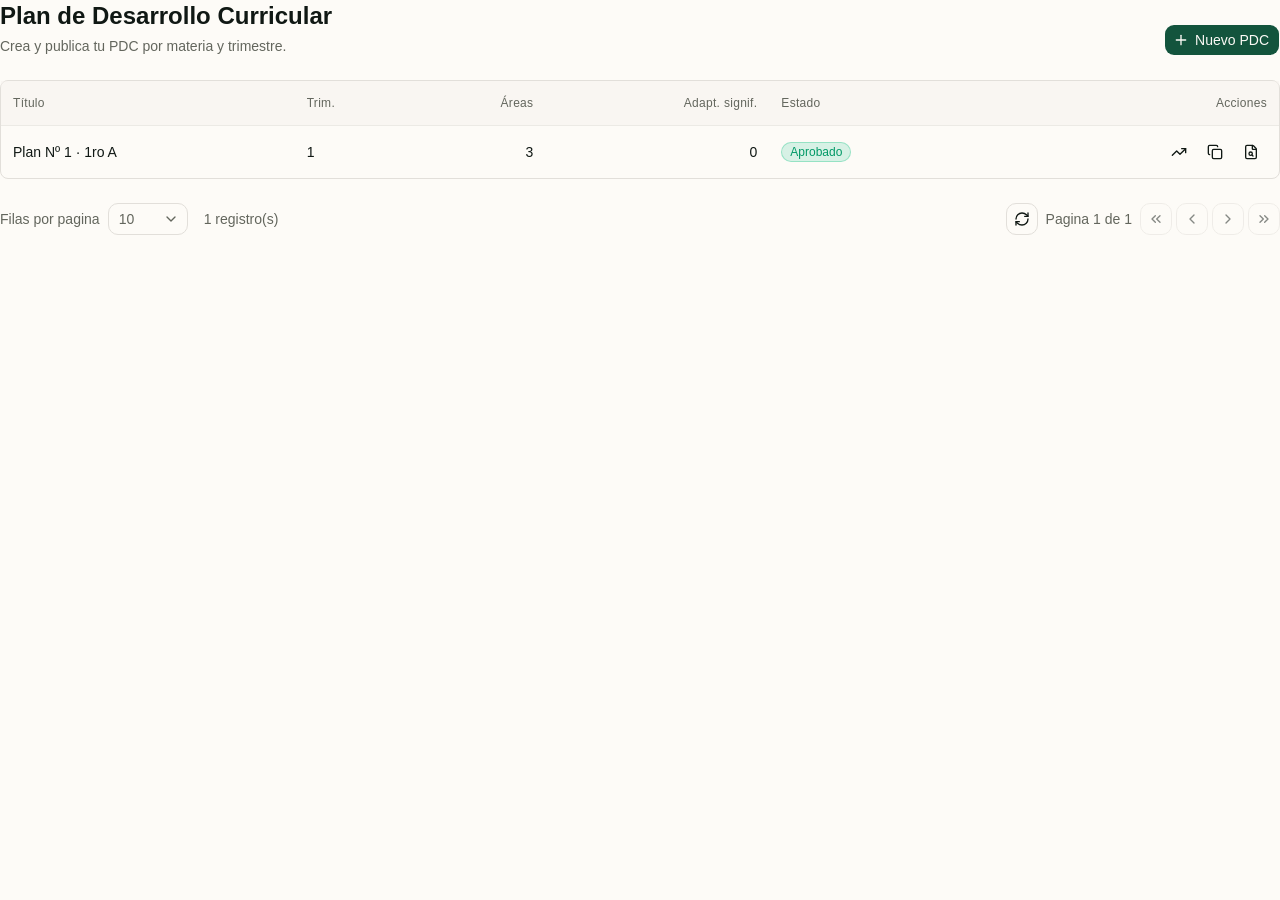
Scenario: PDC listing — progress › keeps the teacher's progress form as it was
Click the button named "Avance".
click(1179, 152)  # box [1163,136,1195,168]
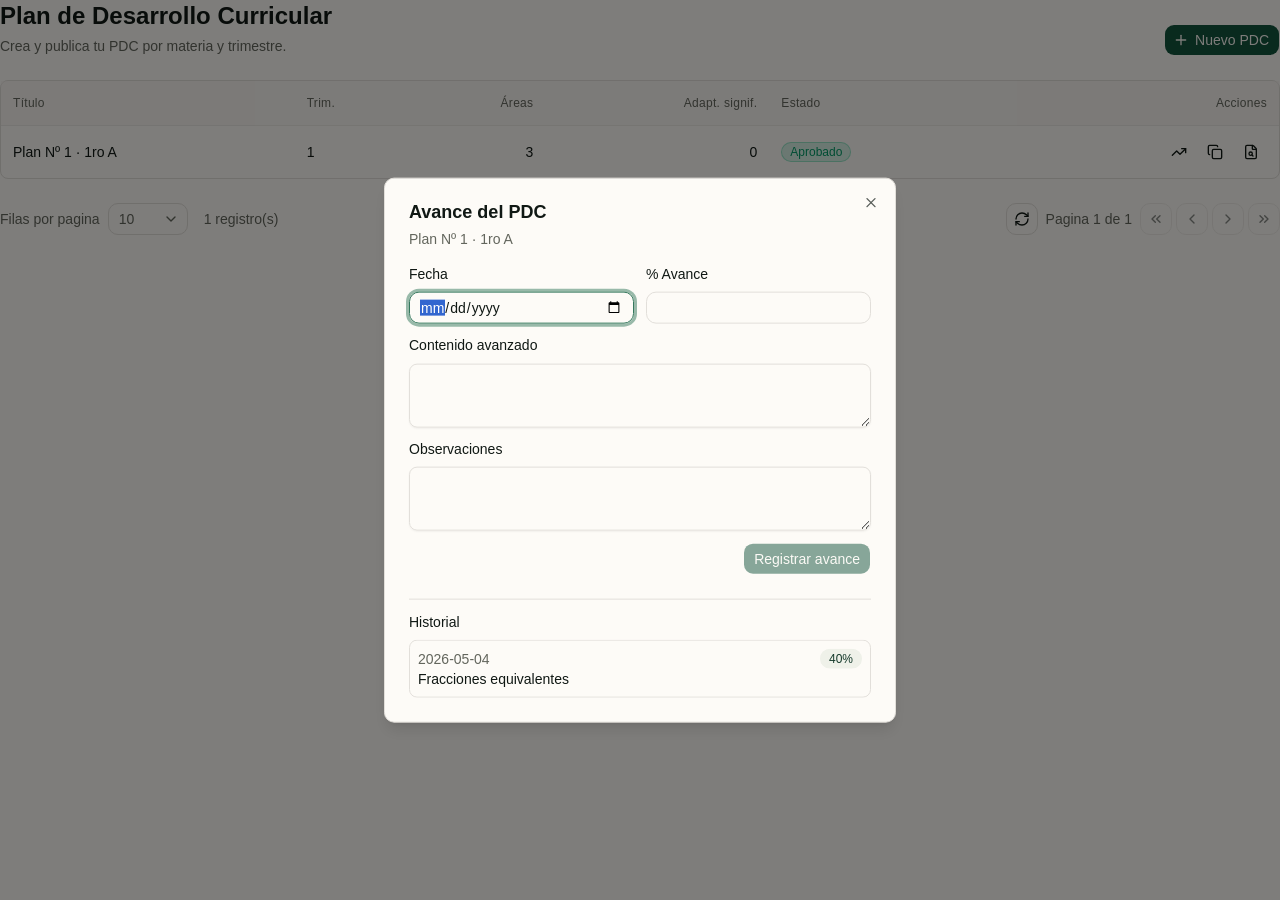
Expected: the text box labelled "Contenido avanzado" is shown, [409,363,871,427]
Expected: the button "Registrar avance" is shown, [743,542,871,574]
